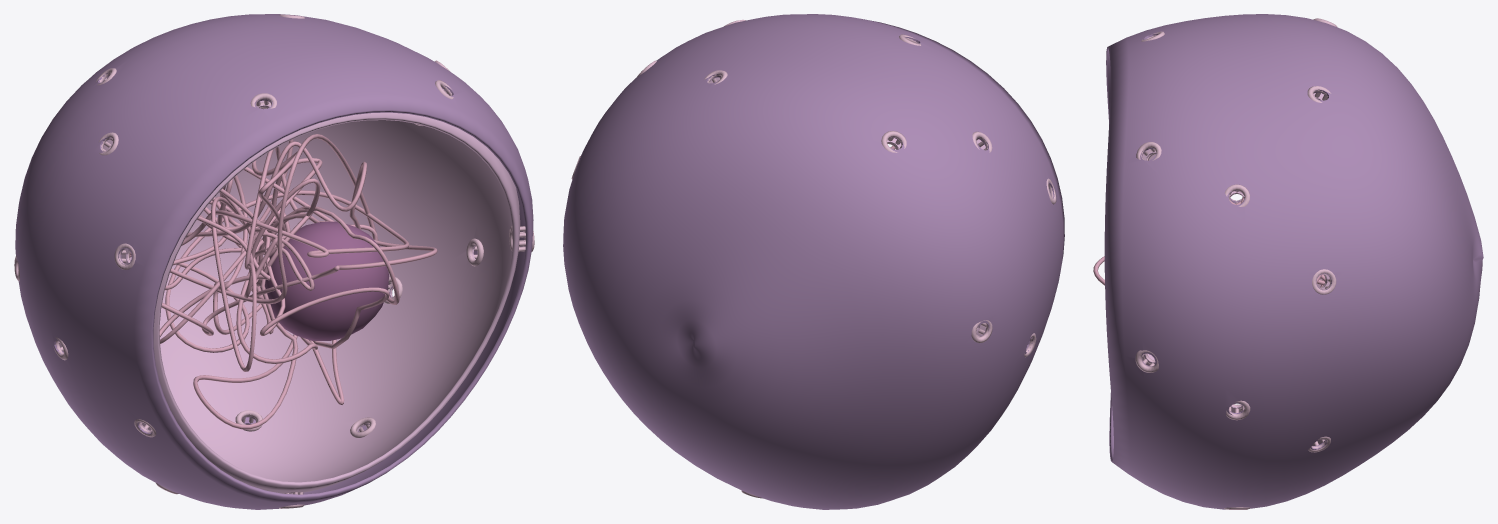
File: nucleus.glb
The picture shows the model from 3 angles, left to right: view 1: azimuth 30°, elevation 25°; view 2: azimuth 150°, elevation 25°; view 3: azimuth 270°, elevation 25°; orthographic projection.
Visible parts, largest first — view 1: outer-nuclear-envelope, inner-nuclear-envelope, tangled-chromatin, nucleolus, nuclear-pore-complexes; view 2: outer-nuclear-envelope, nuclear-pore-complexes; view 3: outer-nuclear-envelope, nuclear-pore-complexes.
Part boxes in pixels (x1=…): outer-nuclear-envelope: x1=15, y1=14, x2=533, y2=509; inner-nuclear-envelope: x1=59, y1=89, x2=520, y2=494; tangled-chromatin: x1=129, y1=134, x2=437, y2=429; nucleolus: x1=265, y1=221, x2=388, y2=340; nuclear-pore-complexes: x1=14, y1=14, x2=534, y2=508; outer-nuclear-envelope: x1=563, y1=14, x2=1064, y2=509; nuclear-pore-complexes: x1=571, y1=19, x2=1056, y2=498; outer-nuclear-envelope: x1=1104, y1=14, x2=1483, y2=509; nuclear-pore-complexes: x1=1135, y1=18, x2=1337, y2=509.
Bounding box in the file's own units: 9.94 × 9.47 × 7.56.
